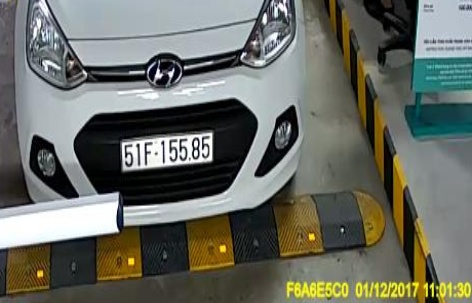plate: (117, 130, 220, 172)
